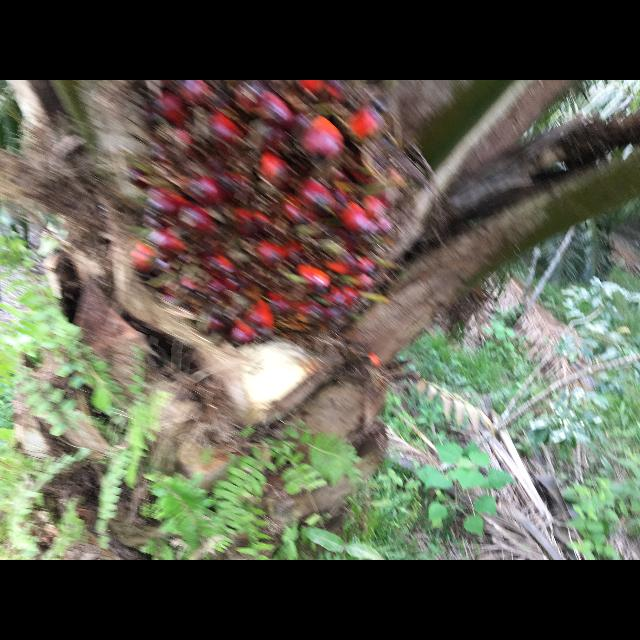Ripe: (128, 80, 411, 349)
